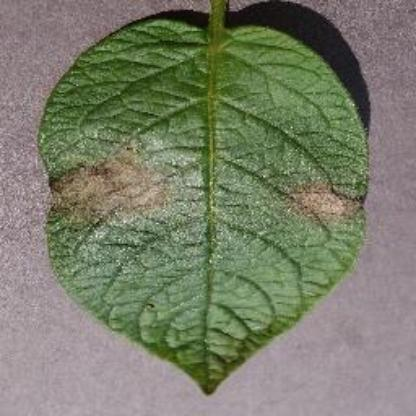Late-Blight: (19, 12, 384, 410)
